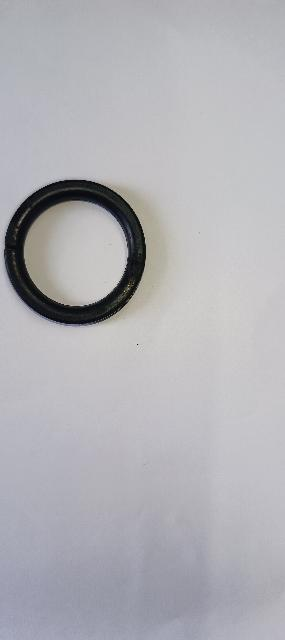4: (125, 250, 148, 284)
crack: (2, 231, 33, 260)
scratch: (26, 193, 43, 219)
